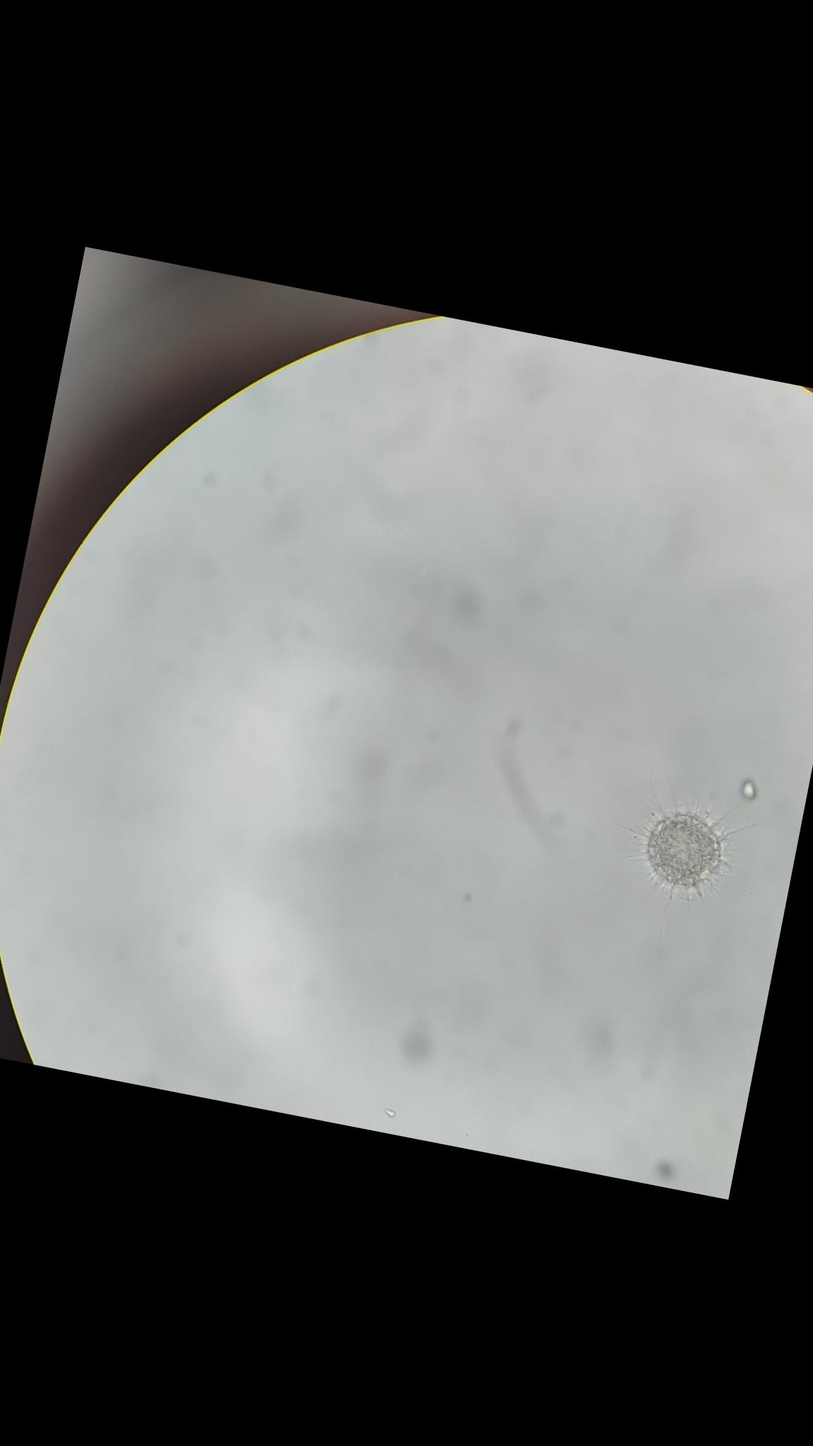Chlorella: (555, 759, 785, 947)
